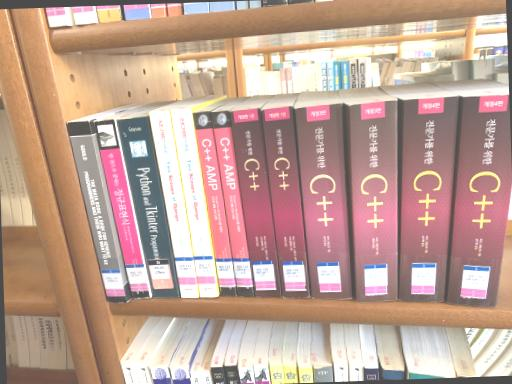book-spine: (447, 93, 512, 306), (399, 95, 459, 301), (115, 116, 179, 297), (295, 103, 352, 298), (66, 121, 127, 302), (93, 119, 152, 298), (229, 107, 282, 296), (259, 105, 310, 298), (349, 99, 397, 302), (148, 110, 199, 297), (170, 108, 217, 297), (192, 111, 237, 295), (210, 110, 252, 296)
